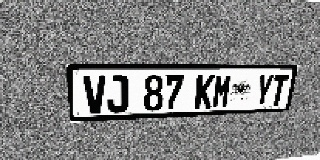7: (163, 75, 184, 111)
8: (144, 75, 164, 111)
J: (106, 75, 128, 113)
K: (194, 75, 215, 109)
M: (212, 75, 233, 108)
T: (269, 74, 290, 106)
V: (83, 75, 106, 114)
Y: (253, 74, 274, 106)
